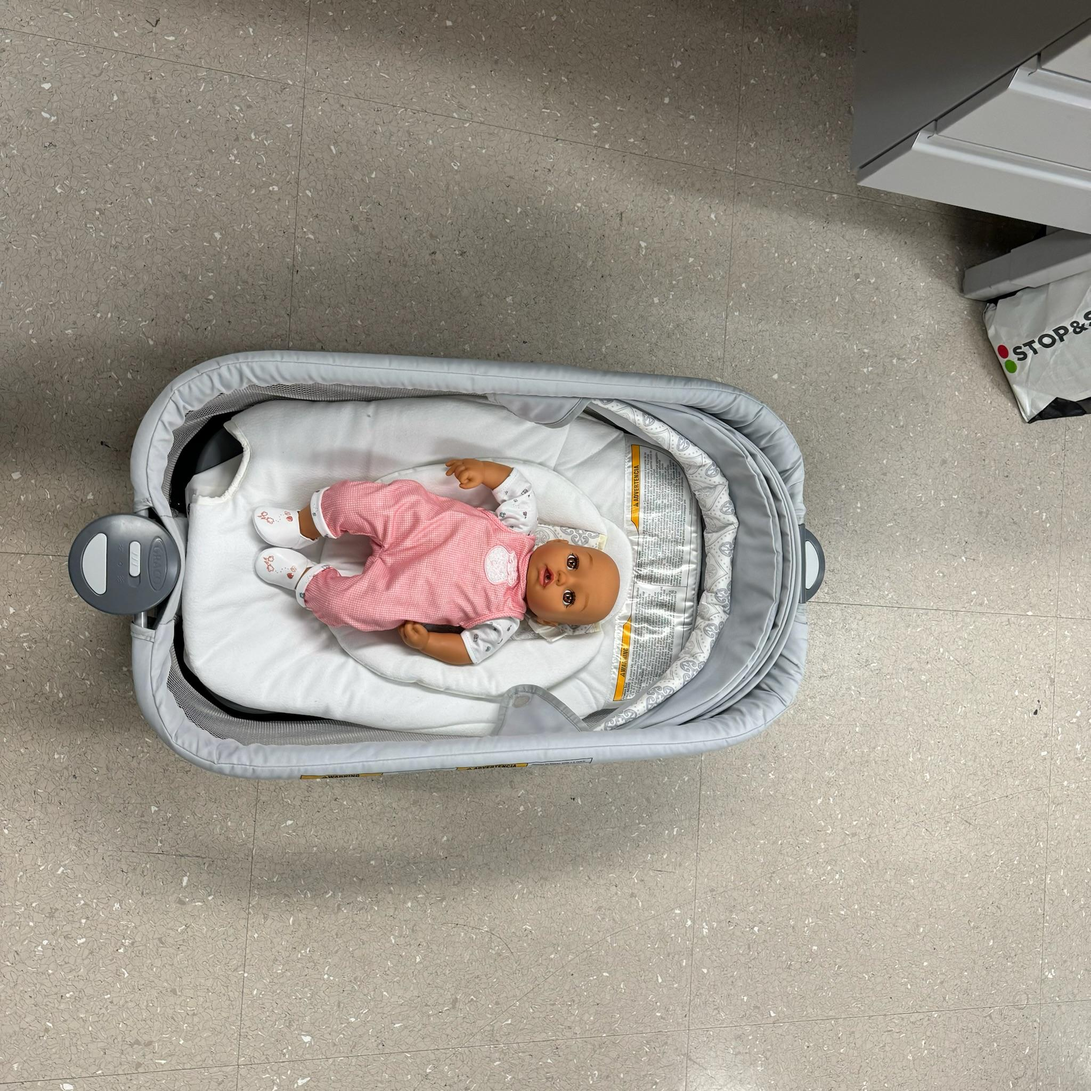baby: (244, 450, 630, 671)
